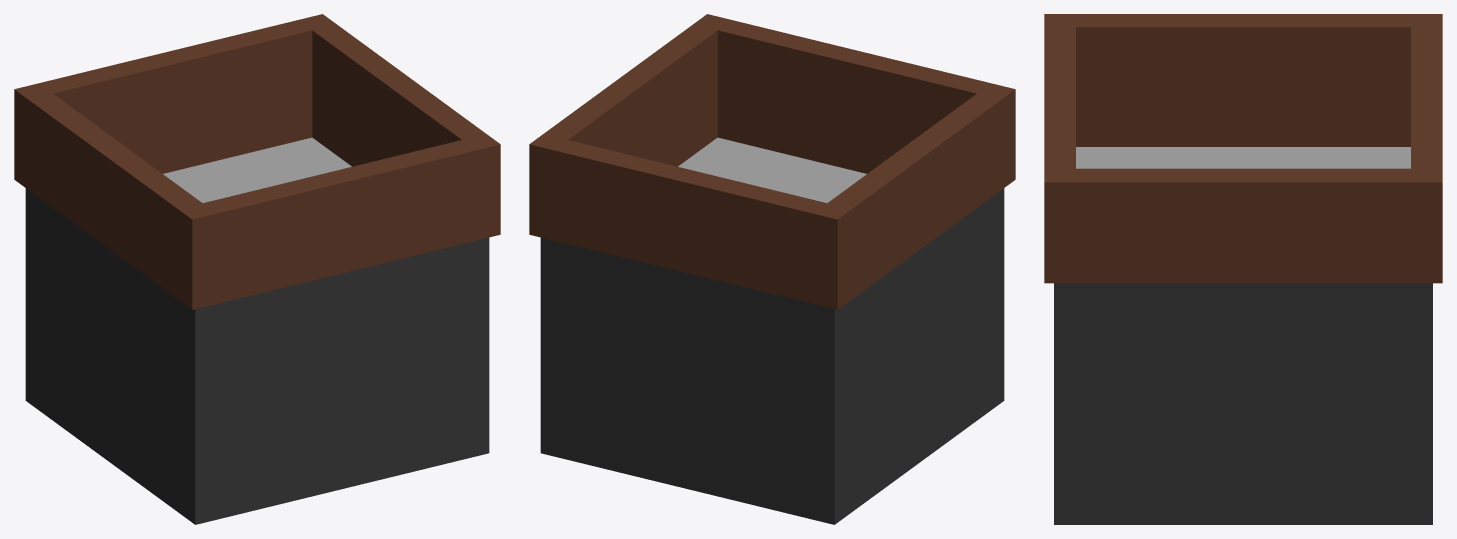
Rendered from Convenience Bin Small.fbx.
3 views of the same model, side by side, from view 1: azimuth 30°, elevation 25°; view 2: azimuth 150°, elevation 25°; view 3: azimuth 270°, elevation 25° (orthographic). The views are drawn at different scales.
Parts seen in each view (by area): view 1: Convenience Bin Small; view 2: Convenience Bin Small; view 3: Convenience Bin Small.
Part boxes in pixels (x1=…): Convenience Bin Small: x1=14, y1=14, x2=500, y2=524; Convenience Bin Small: x1=529, y1=14, x2=1015, y2=524; Convenience Bin Small: x1=1044, y1=14, x2=1442, y2=524.
Bounding box in the file's own units: 88.86 × 85.41 × 88.86.
Materials: 1 (1 with a texture image).
